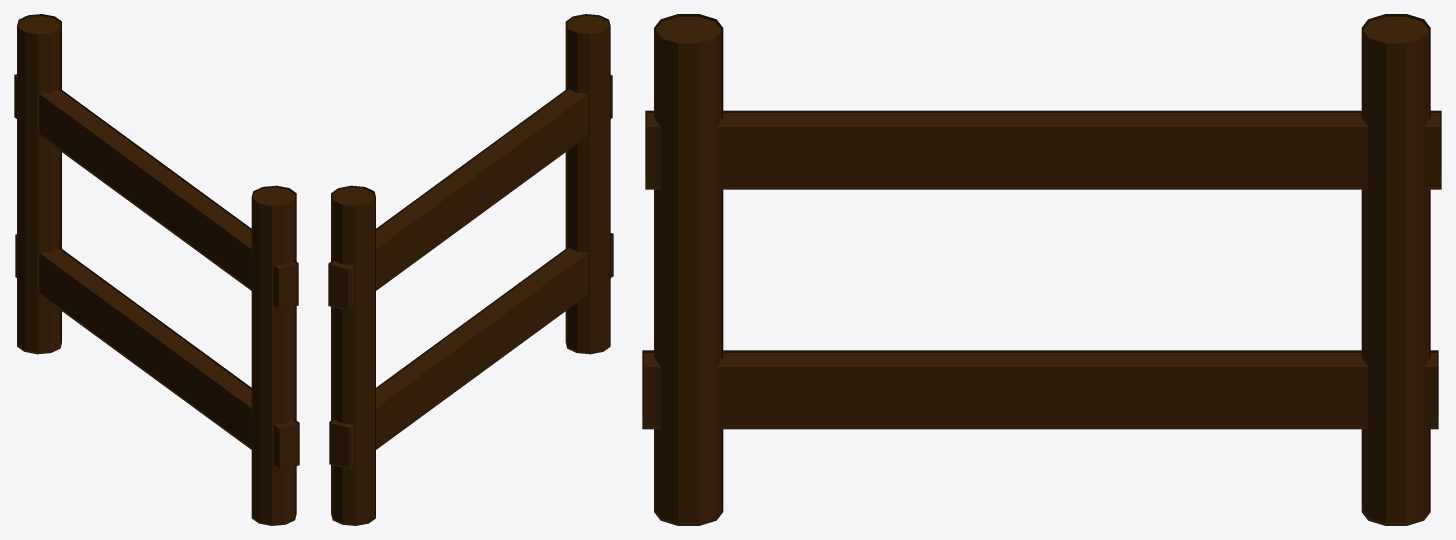
Rendered from Fence_Doube_Post_(Outlined)v003.fbx.
3 renders of one model, left to right at view 1: azimuth 30°, elevation 25°; view 2: azimuth 150°, elevation 25°; view 3: azimuth 270°, elevation 25°, orthographic. The views are drawn at different scales.
Parts seen in each view (by area): view 1: Slat_2, Slat_1, Fence_Post, Fence_Post_2; view 2: Slat_1, Slat_2, Fence_Post_2, Fence_Post; view 3: Slat_2, Slat_1, Fence_Post, Fence_Post_2.
Boxes of the visible parts, x1=… form: Slat_2: x1=15, y1=234, x2=299, y2=470; Slat_1: x1=14, y1=74, x2=298, y2=310; Fence_Post: x1=251, y1=185, x2=296, y2=525; Fence_Post_2: x1=17, y1=14, x2=61, y2=354; Slat_1: x1=328, y1=75, x2=612, y2=310; Slat_2: x1=329, y1=233, x2=613, y2=469; Fence_Post_2: x1=331, y1=185, x2=375, y2=525; Fence_Post: x1=565, y1=14, x2=610, y2=354; Slat_2: x1=642, y1=350, x2=1438, y2=429; Slat_1: x1=645, y1=110, x2=1441, y2=189; Fence_Post: x1=654, y1=14, x2=723, y2=525; Fence_Post_2: x1=1361, y1=14, x2=1430, y2=525.
Size of the model in its own units: 49.77 by 404 by 604.
